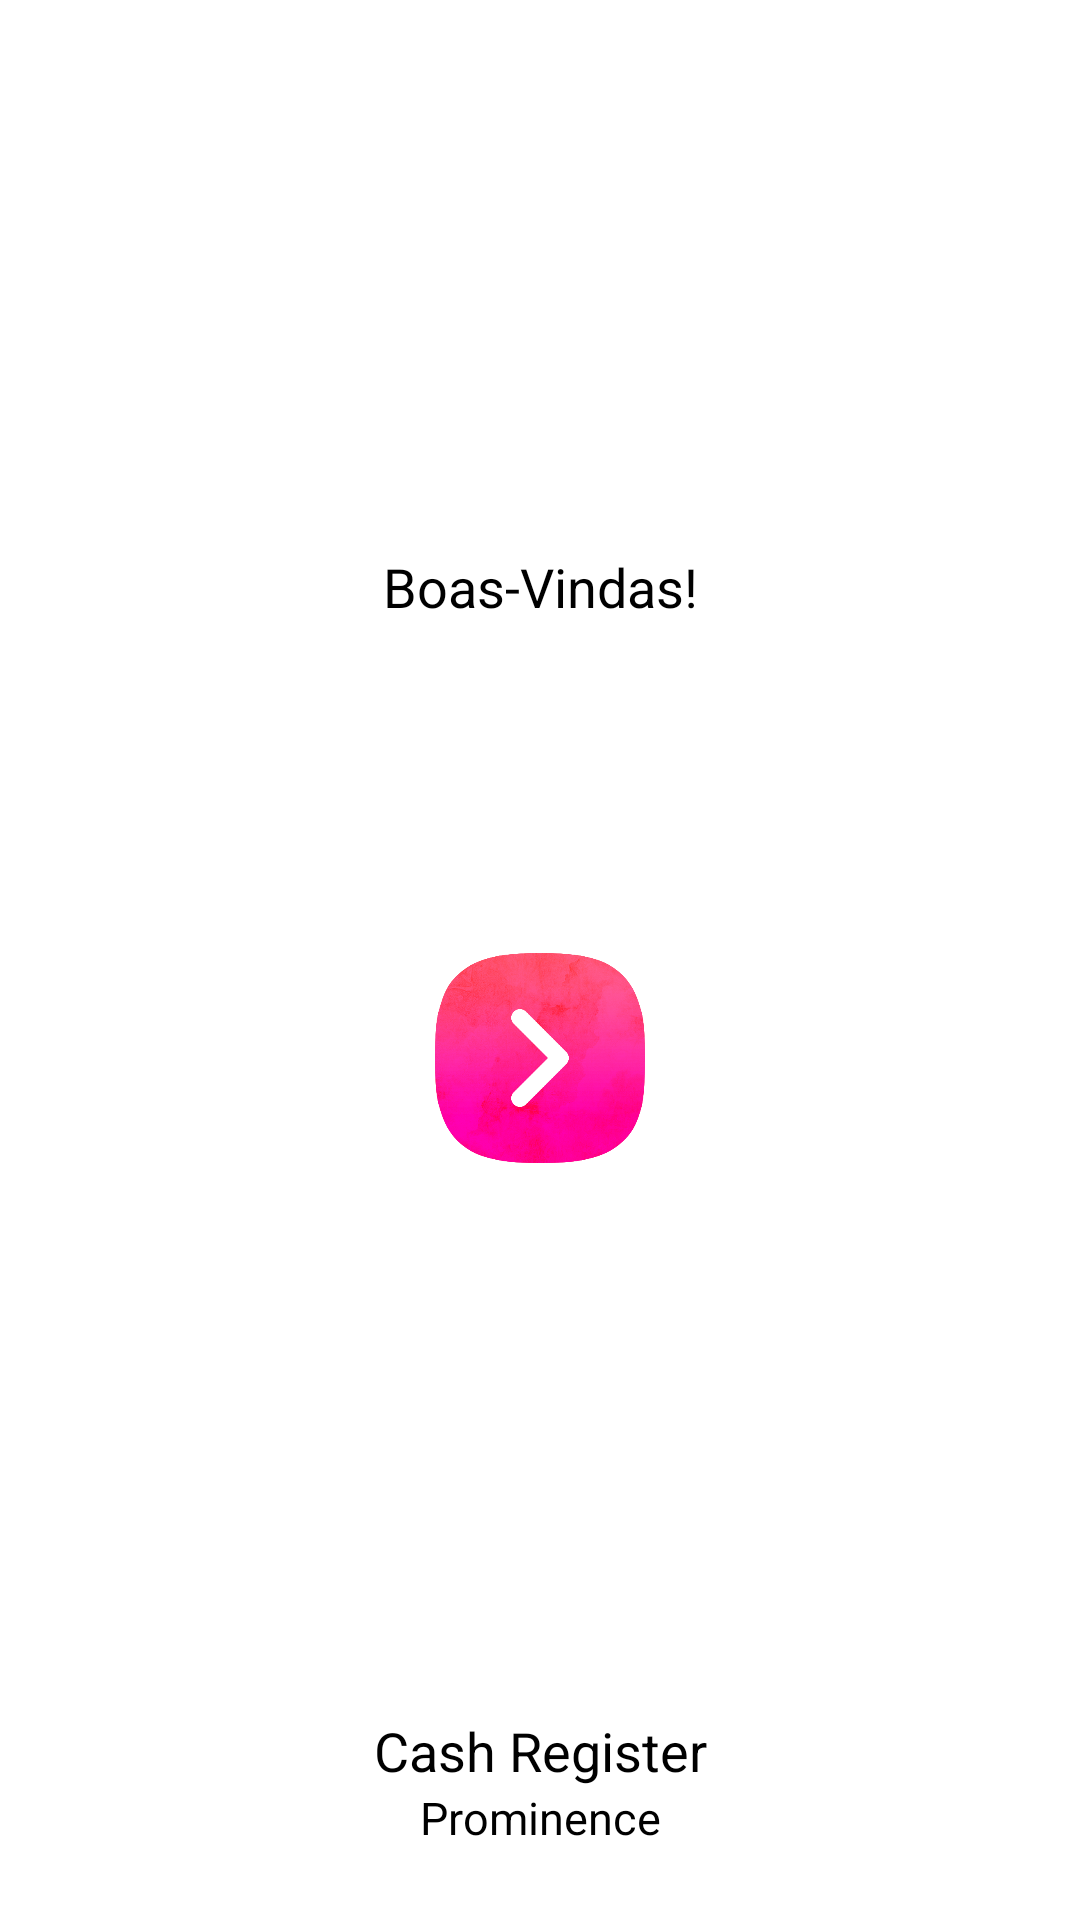

Icon click points for this 1080×1920 phone screenshot, format point (x, y):
next: point (540, 1058)
